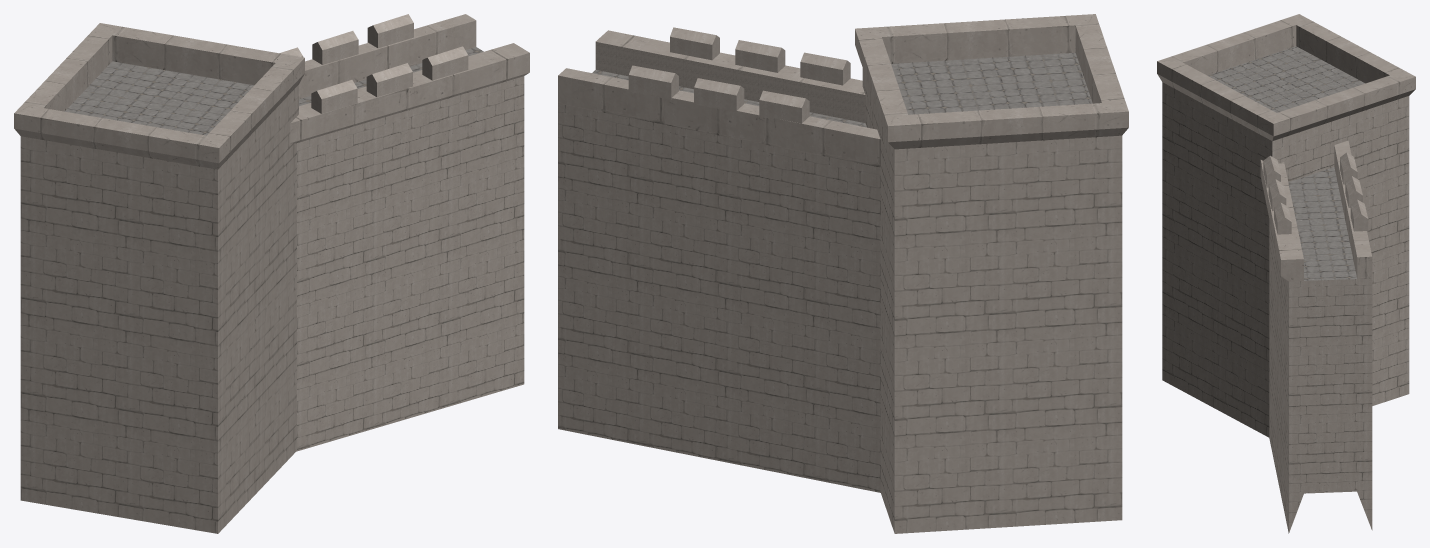
File: CastleWall_A.fbx
3 renders of one model, left to right at view 1: azimuth 30°, elevation 25°; view 2: azimuth 150°, elevation 25°; view 3: azimuth 270°, elevation 25°, orthographic. The views are drawn at different scales.
Visible parts, largest first — view 1: CastleWall_A; view 2: CastleWall_A; view 3: CastleWall_A.
Boxes of the visible parts, x1,y1,x2,y2 form: CastleWall_A: [14, 14, 529, 533]; CastleWall_A: [558, 14, 1128, 533]; CastleWall_A: [1157, 14, 1415, 533].
Bounding box in the file's own units: 6672 × 4919 × 3621.
2 materials, 2 textured.
